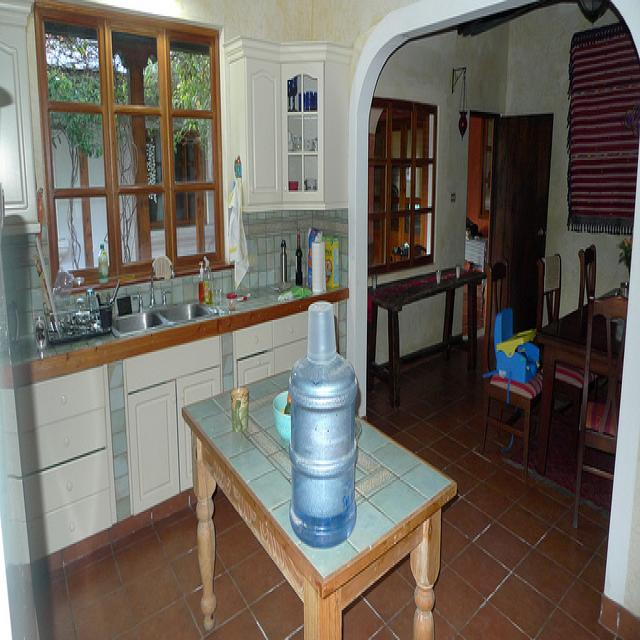chair: (478, 262, 544, 473), (574, 296, 629, 529), (536, 254, 584, 396)
dining table: (181, 301, 457, 640), (535, 243, 628, 473)
